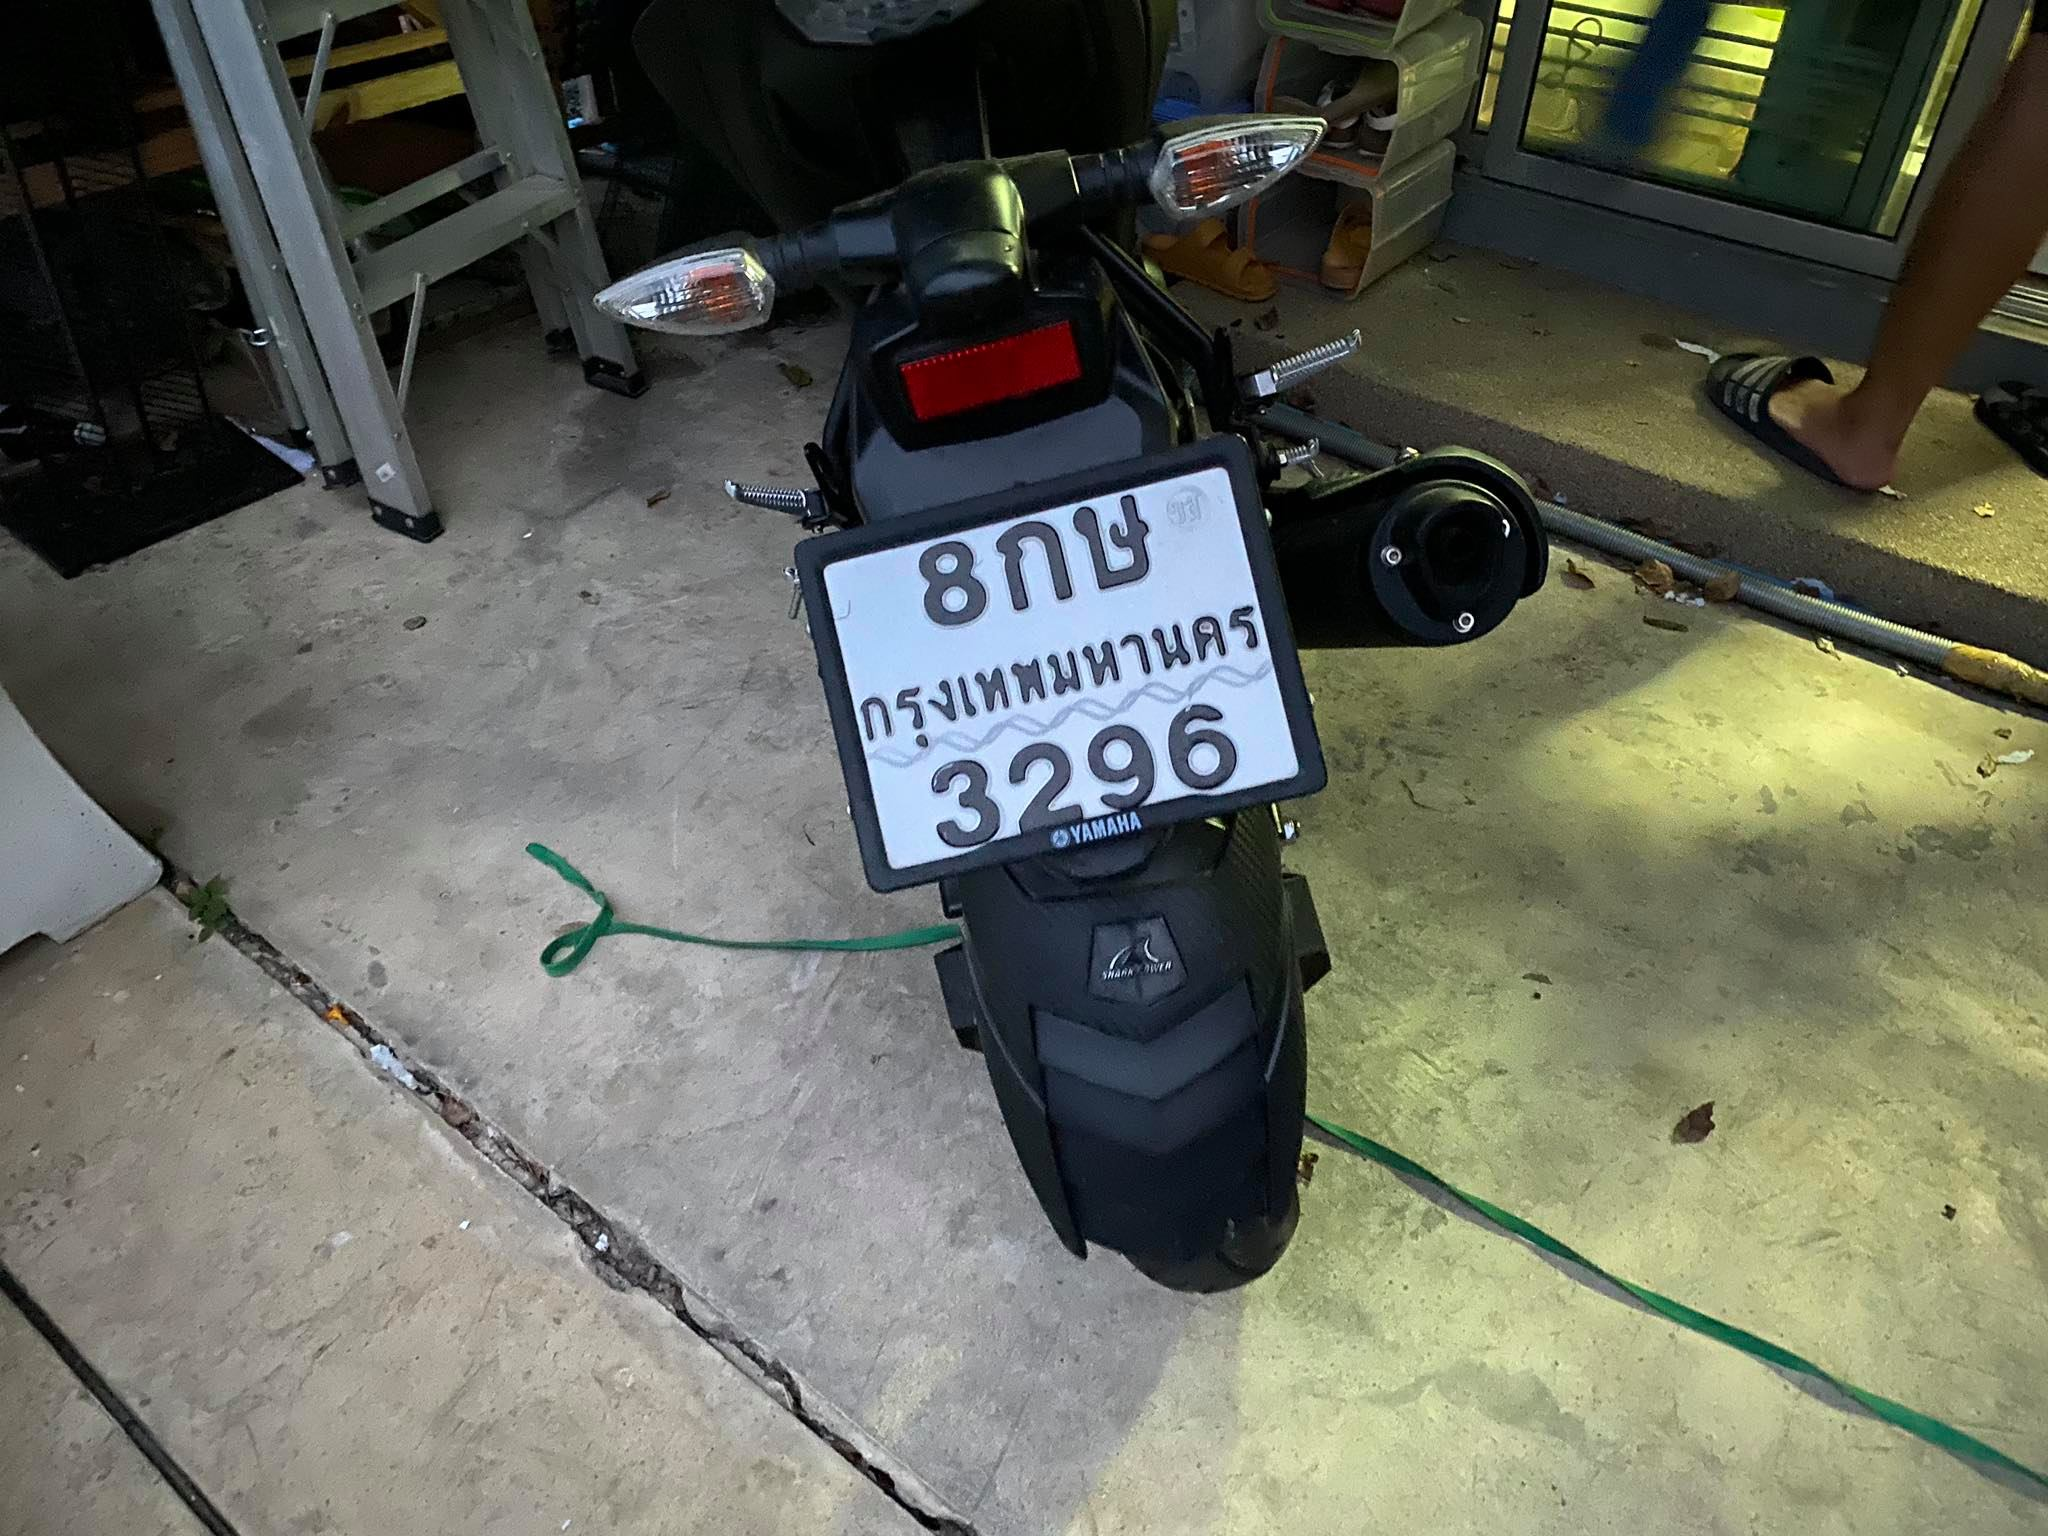line1: (911, 489, 1153, 631)
line2: (853, 605, 1269, 749)
line3: (916, 703, 1235, 845)
